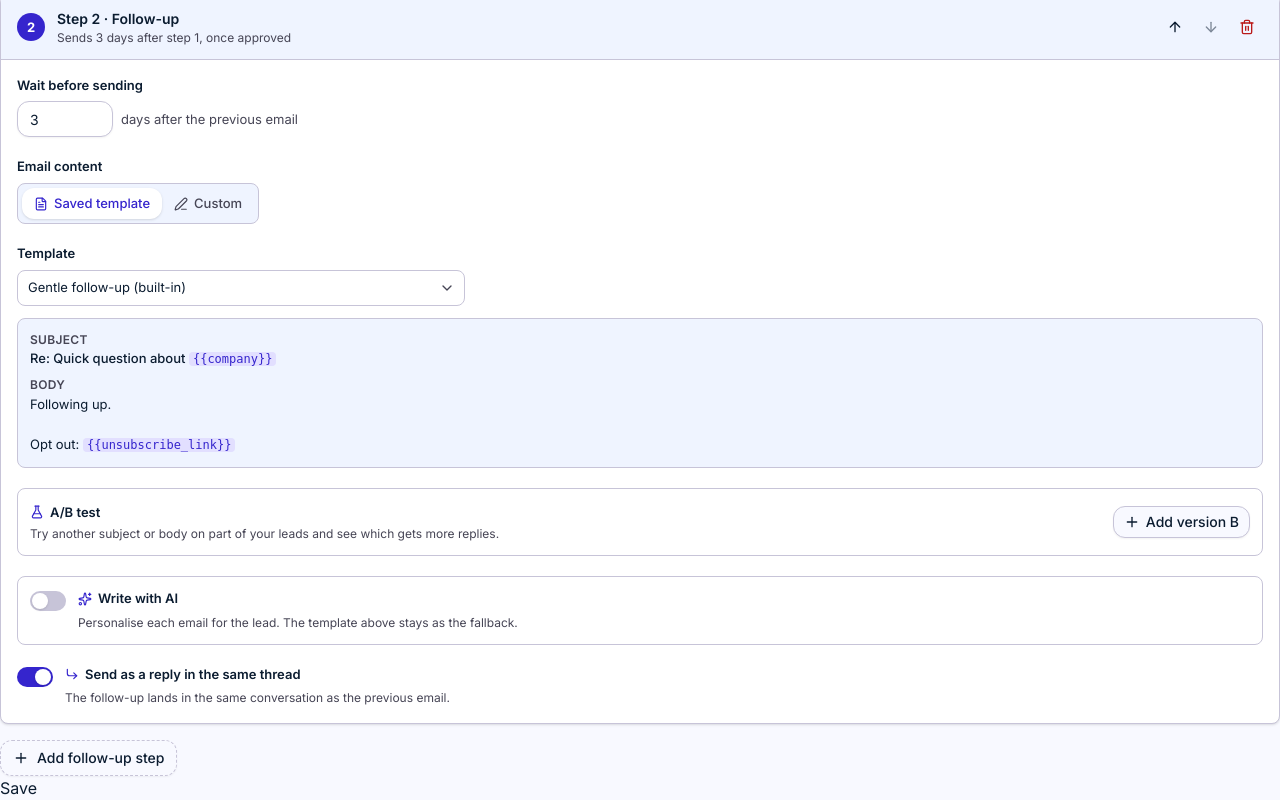
Scenario: CampaignStepEditor › adds, reorders and removes steps
(page scrolled)
Click the button "Add follow-up step".
click(89, 758)  # box [0, 740, 178, 776]
(page scrolled)
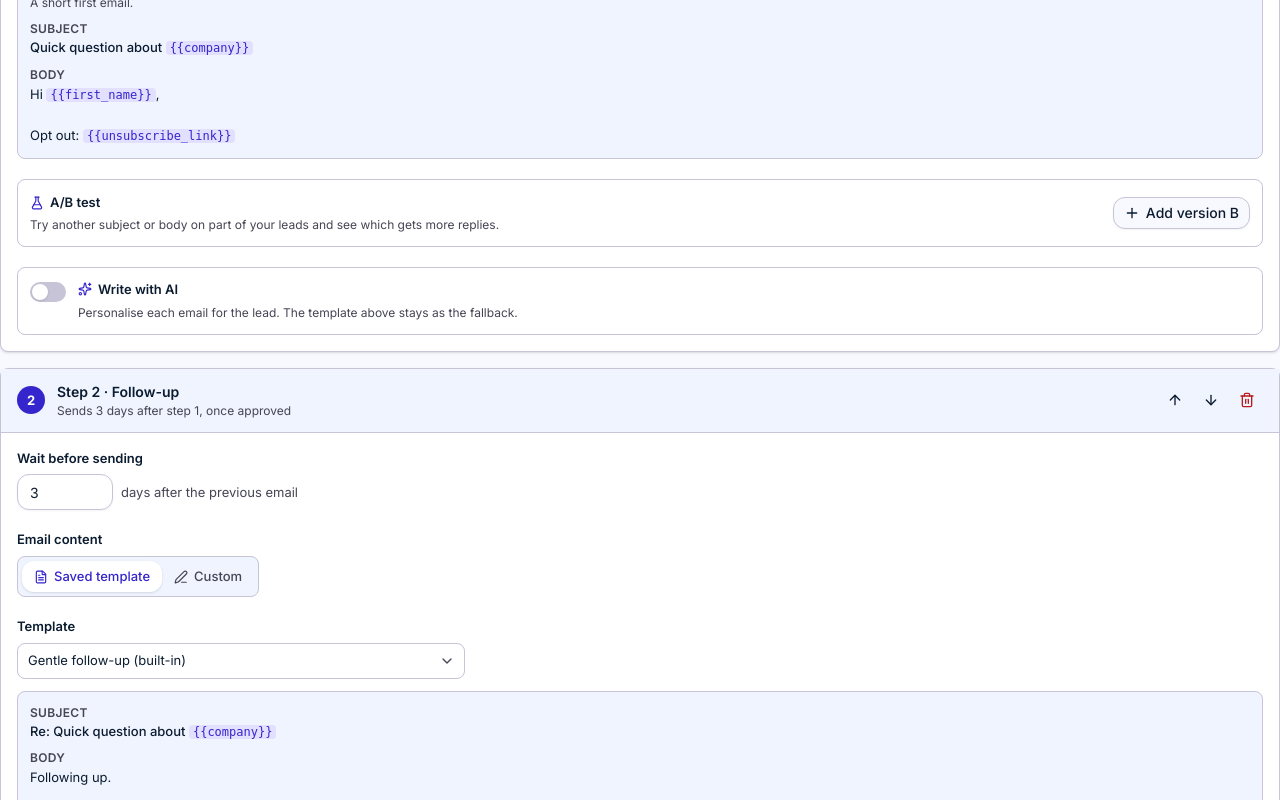
Now the number of elements "Step 1" is 3
Click the button named "Move step 2 up".
click(1175, 400)  # box [1159, 384, 1191, 416]
(page scrolled)
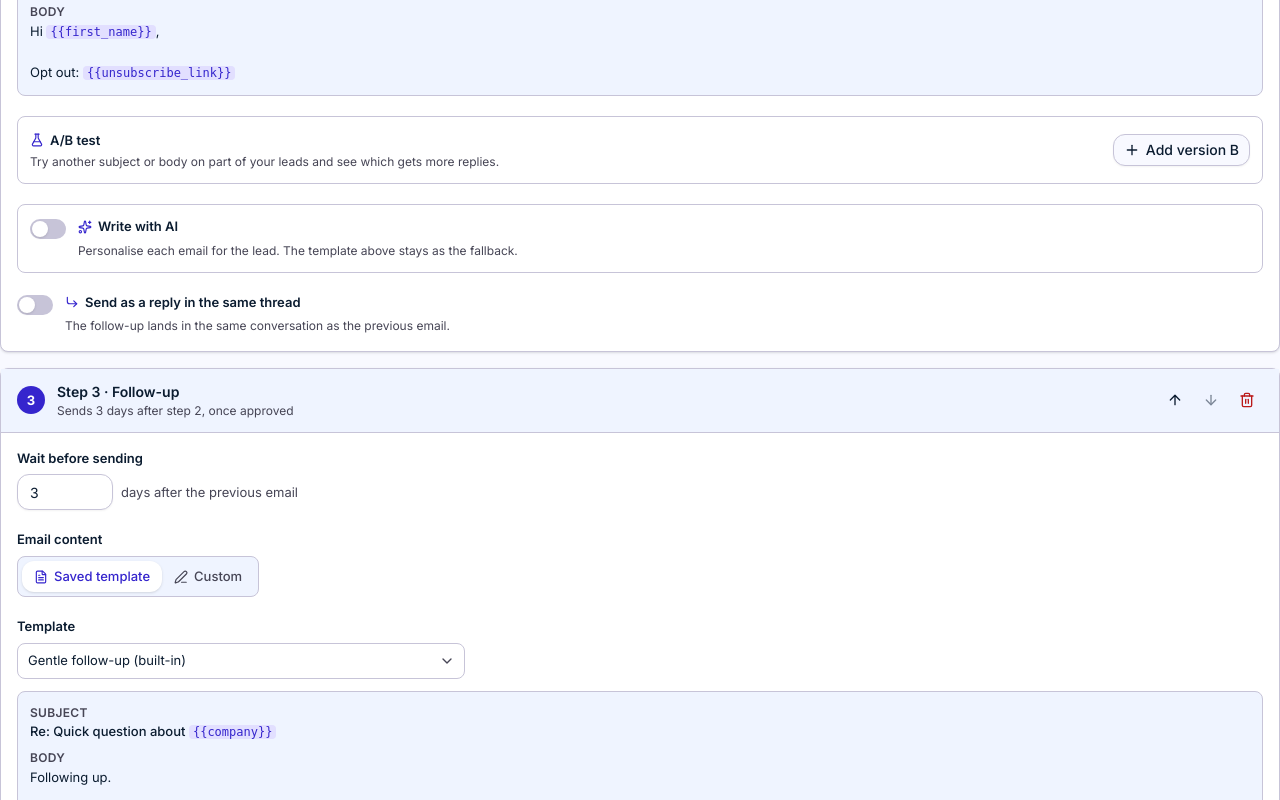
Click the button named "Remove step 3".
click(1247, 400)  # box [1231, 384, 1263, 416]
(page scrolled)
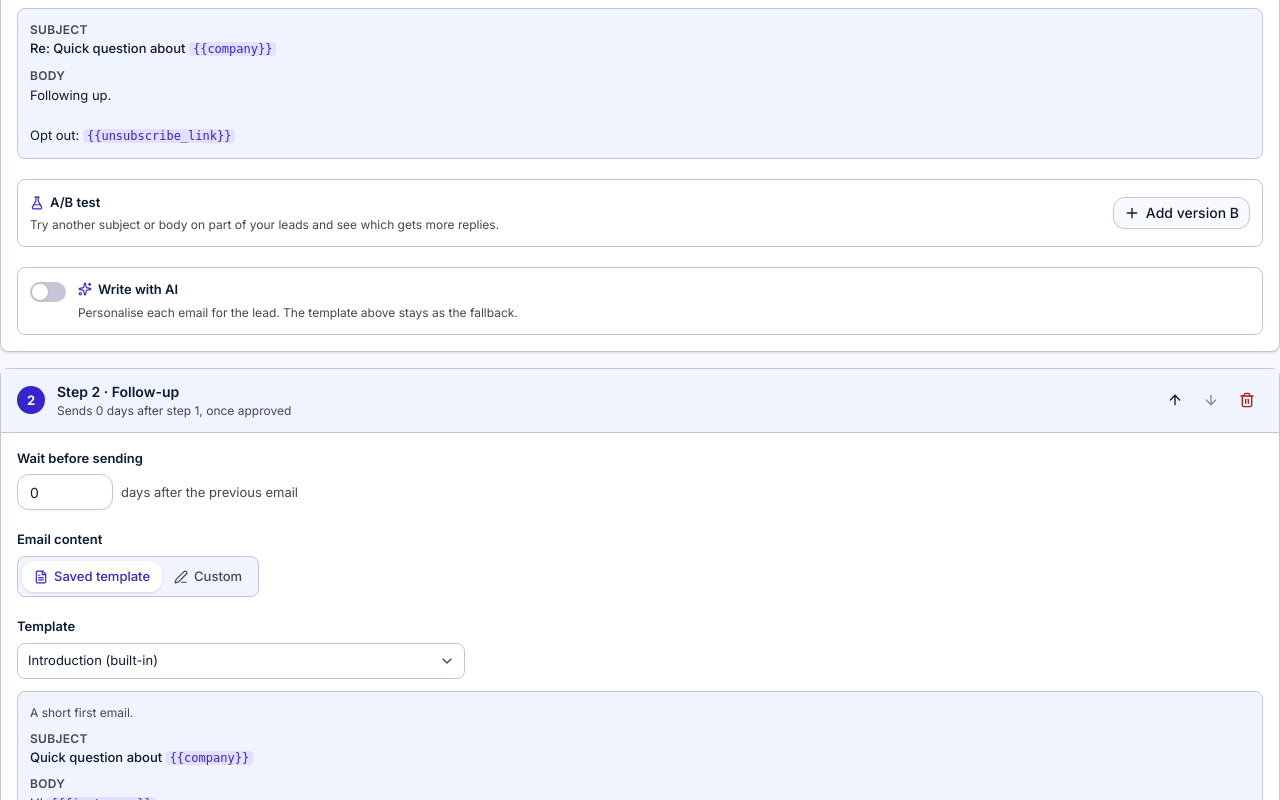
Click the button named "Remove step 2".
click(1247, 400)  # box [1231, 384, 1263, 416]
(page scrolled)
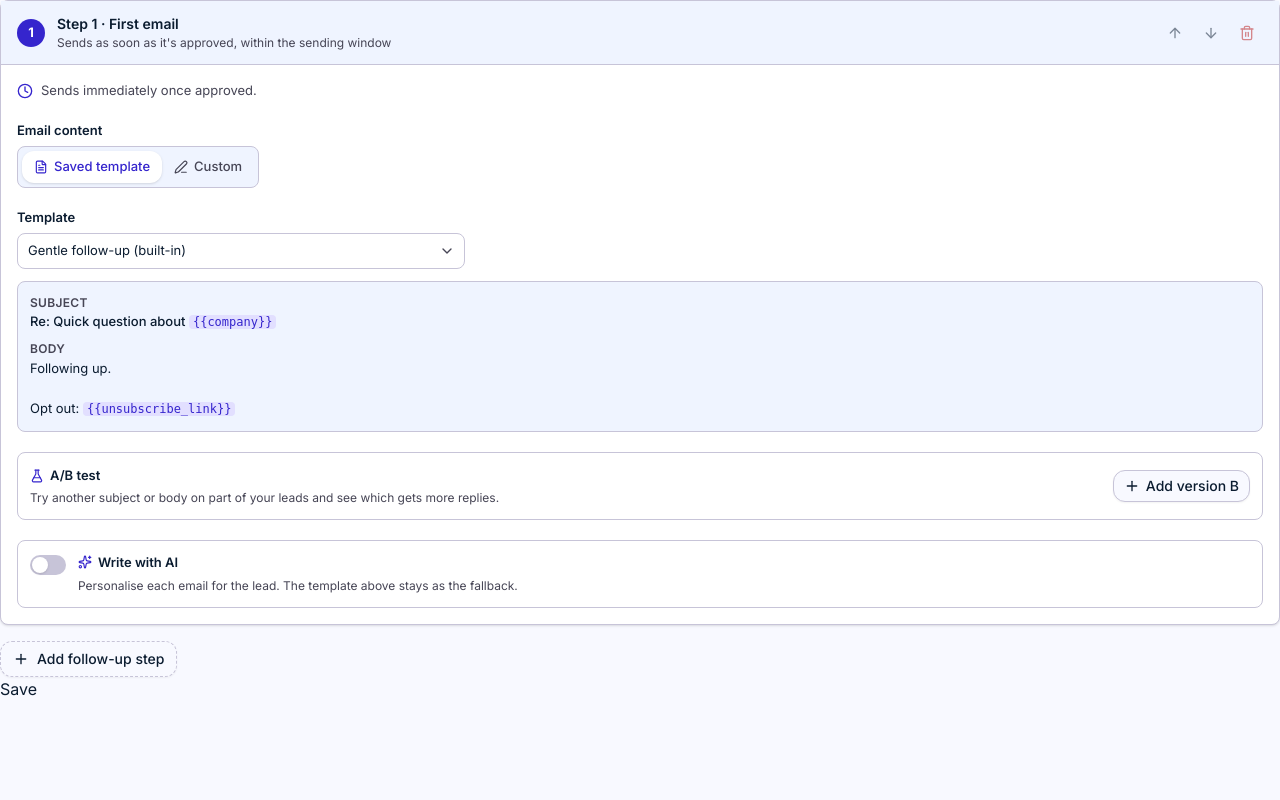
Now the number of elements "Step 1" is 1
Now the button named "Remove step 1" is disabled, box [1231, 16, 1263, 48]
